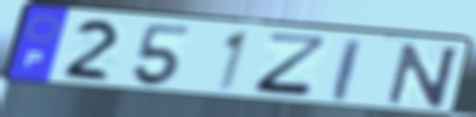1: (215, 28, 257, 95)
2: (60, 18, 125, 86)
5: (129, 21, 193, 88)
I: (330, 37, 364, 104)
N: (384, 42, 463, 109)
Z: (250, 31, 333, 101)
